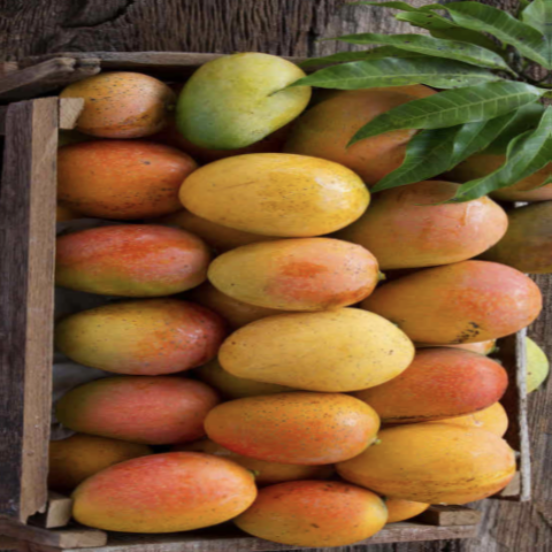mango: (200, 300, 426, 402), (311, 412, 517, 521), (172, 147, 384, 242), (70, 444, 276, 539), (359, 249, 539, 349), (202, 386, 387, 482), (21, 223, 236, 305), (160, 41, 313, 145), (215, 228, 395, 313), (65, 365, 238, 445), (217, 475, 391, 550)
